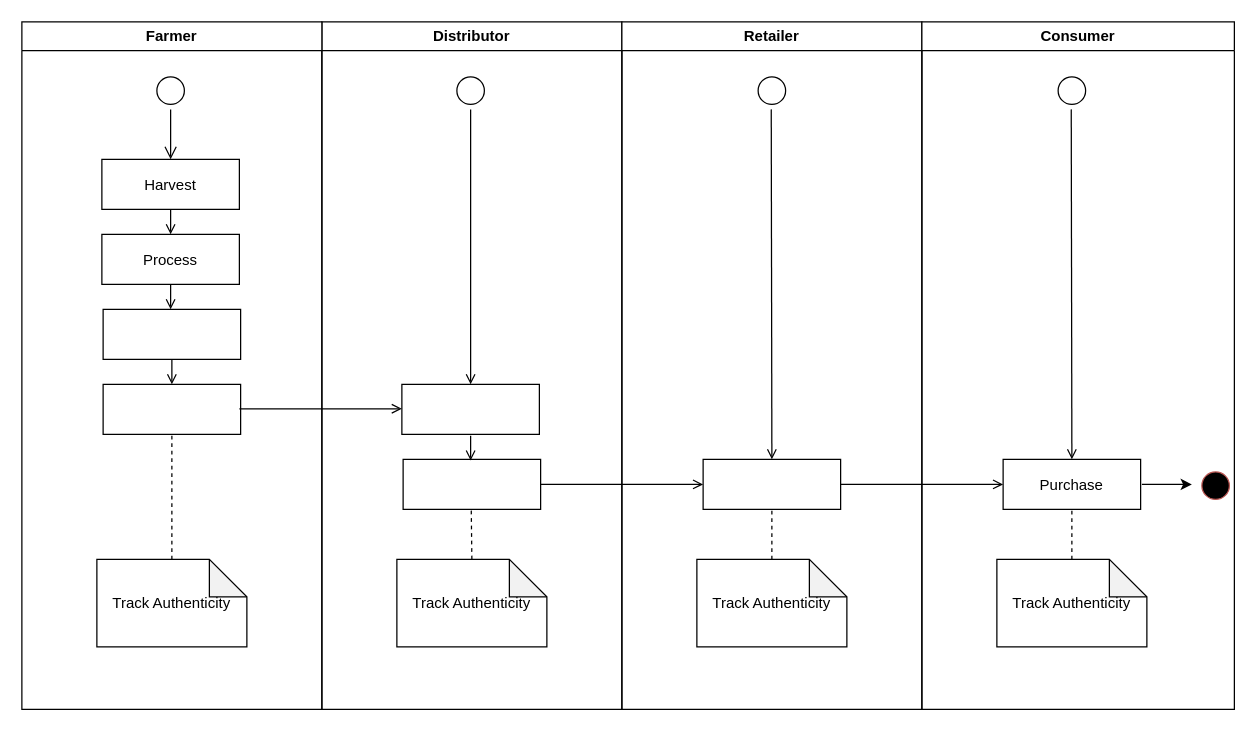
Some shapes in this 1256 by 731 pixel diagram are drawn without their labels. The shapes that lost their labels are listed below. From the top down, each one's centre as x and y in pixels, then its label:
At point 171,333: "Pack".
At point 171,408: "Sell".
At point 470,408: "Buy".
At point 471,483: "Ship".
At point 771,483: "Receive".
